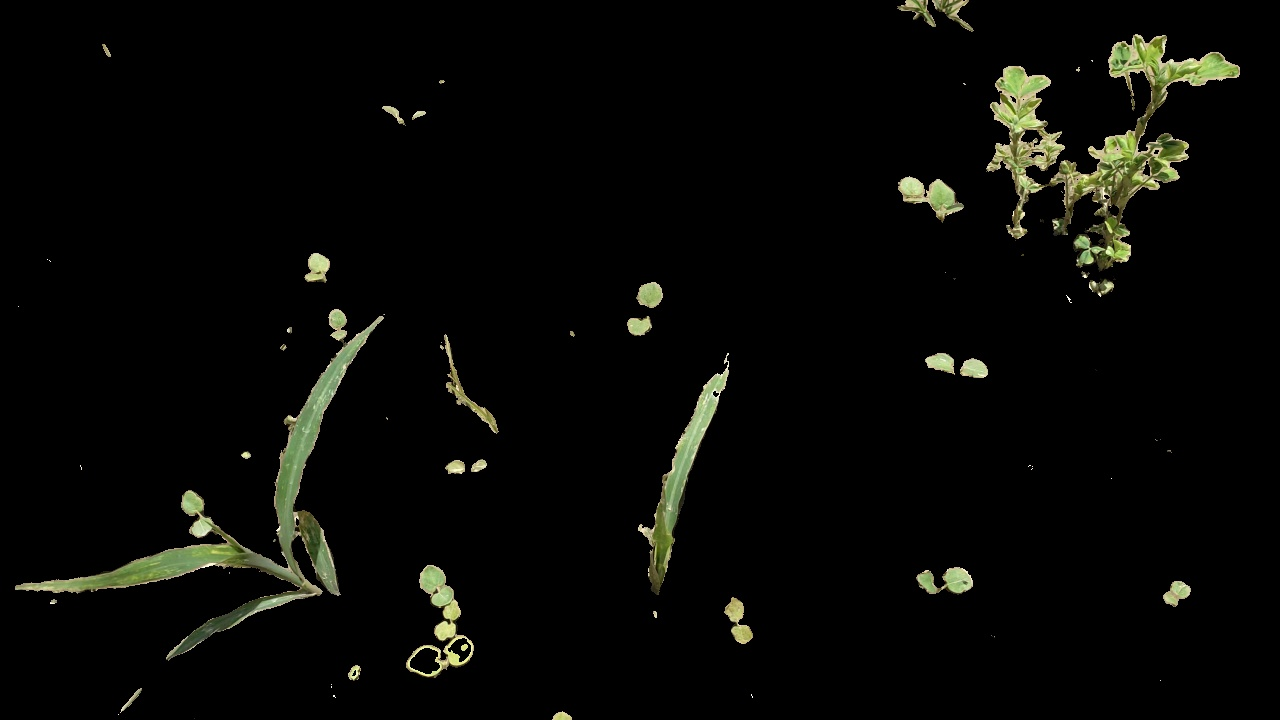crop: (230, 359, 387, 625), (16, 541, 346, 656), (619, 361, 713, 593)
weed: (980, 34, 1237, 311), (403, 561, 478, 681), (892, 174, 973, 227), (920, 343, 1000, 389), (715, 584, 767, 648), (891, 1, 987, 35), (623, 277, 672, 341), (168, 481, 217, 541), (915, 558, 975, 601), (377, 98, 430, 132), (433, 453, 492, 477), (326, 301, 354, 343), (299, 251, 334, 282), (1160, 582, 1195, 608)
